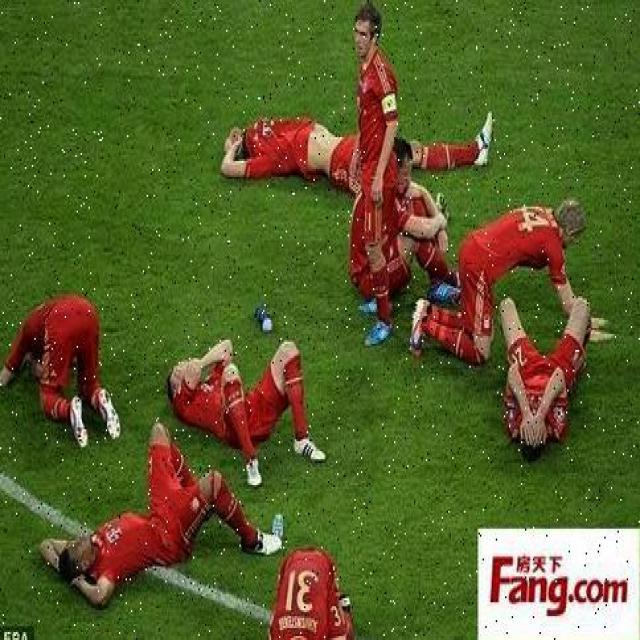fall: (49, 445, 248, 614), (169, 332, 332, 479), (228, 107, 490, 183), (4, 290, 116, 441), (504, 296, 584, 453)
